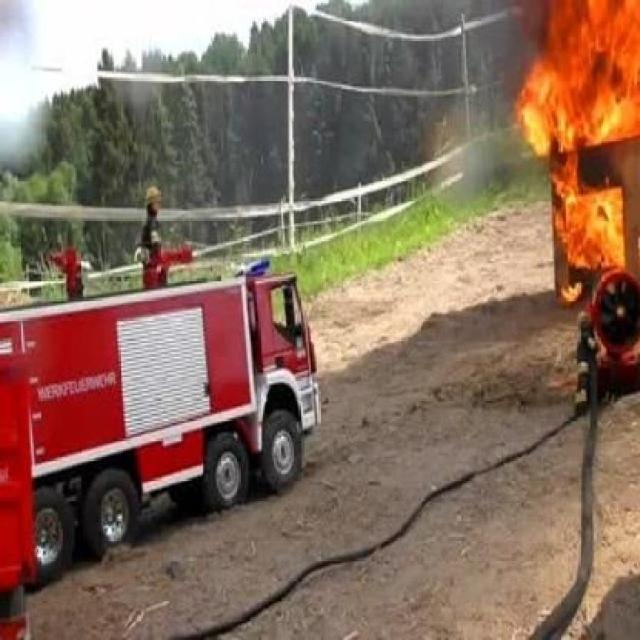Fire: (516, 1, 640, 304)
